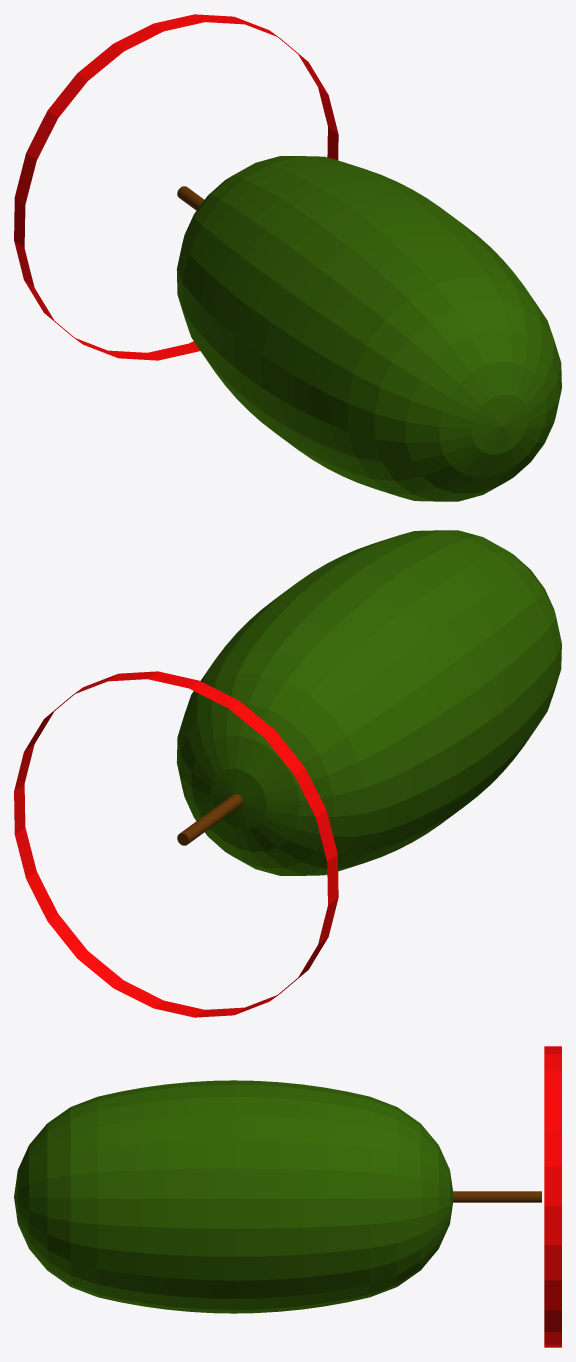
The model's file is LPo21m.obj.
The picture shows the model from 3 angles, top to bottom: view 1: azimuth 30°, elevation 25°; view 2: azimuth 150°, elevation 25°; view 3: azimuth 270°, elevation 25°; orthographic projection. The views are drawn at different scales.
Bounding box in the file's own units: 11.92 × 11.92 × 21.8.
